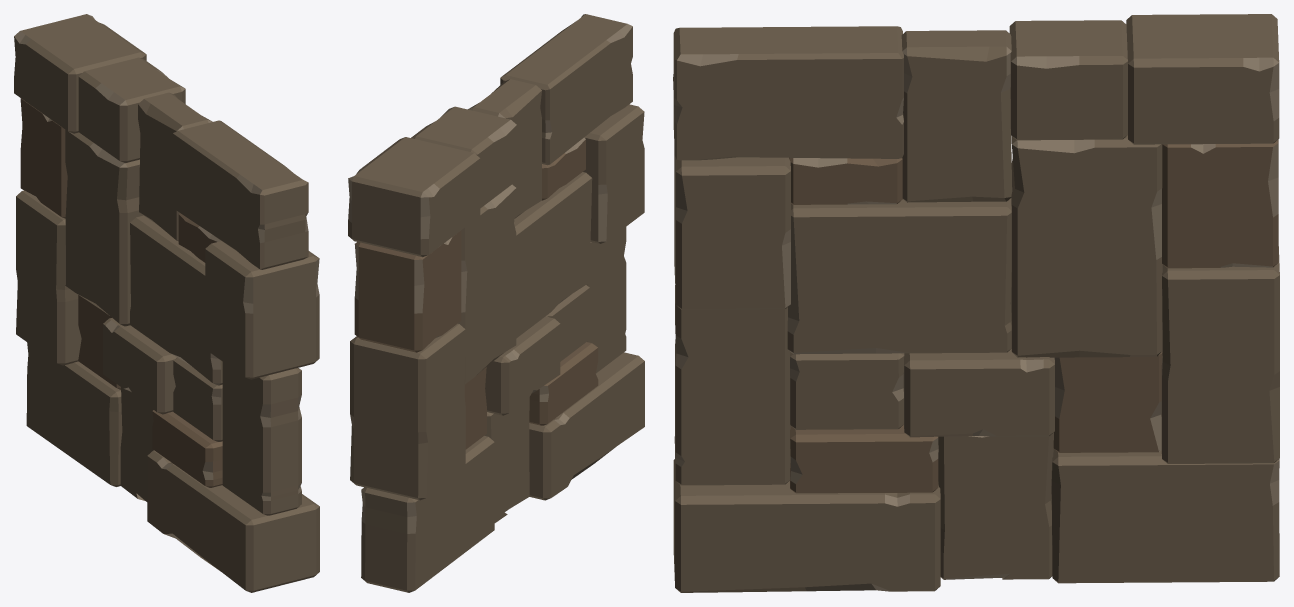
File: crypt_wall_east_5_lev3.glb
3 renders of one model, left to right at view 1: azimuth 30°, elevation 25°; view 2: azimuth 150°, elevation 25°; view 3: azimuth 270°, elevation 25°, orthographic. The views are drawn at different scales.
Parts seen in each view (by area): view 1: crypt_wall_east_5_lev3; view 2: crypt_wall_east_5_lev3; view 3: crypt_wall_east_5_lev3.
Boxes of the visible parts, x1,y1,x2,y2 form: crypt_wall_east_5_lev3: [14, 14, 319, 592]; crypt_wall_east_5_lev3: [348, 14, 644, 592]; crypt_wall_east_5_lev3: [673, 14, 1279, 592].
Bounding box in the file's own units: 1.31 × 6.02 × 6.21.
